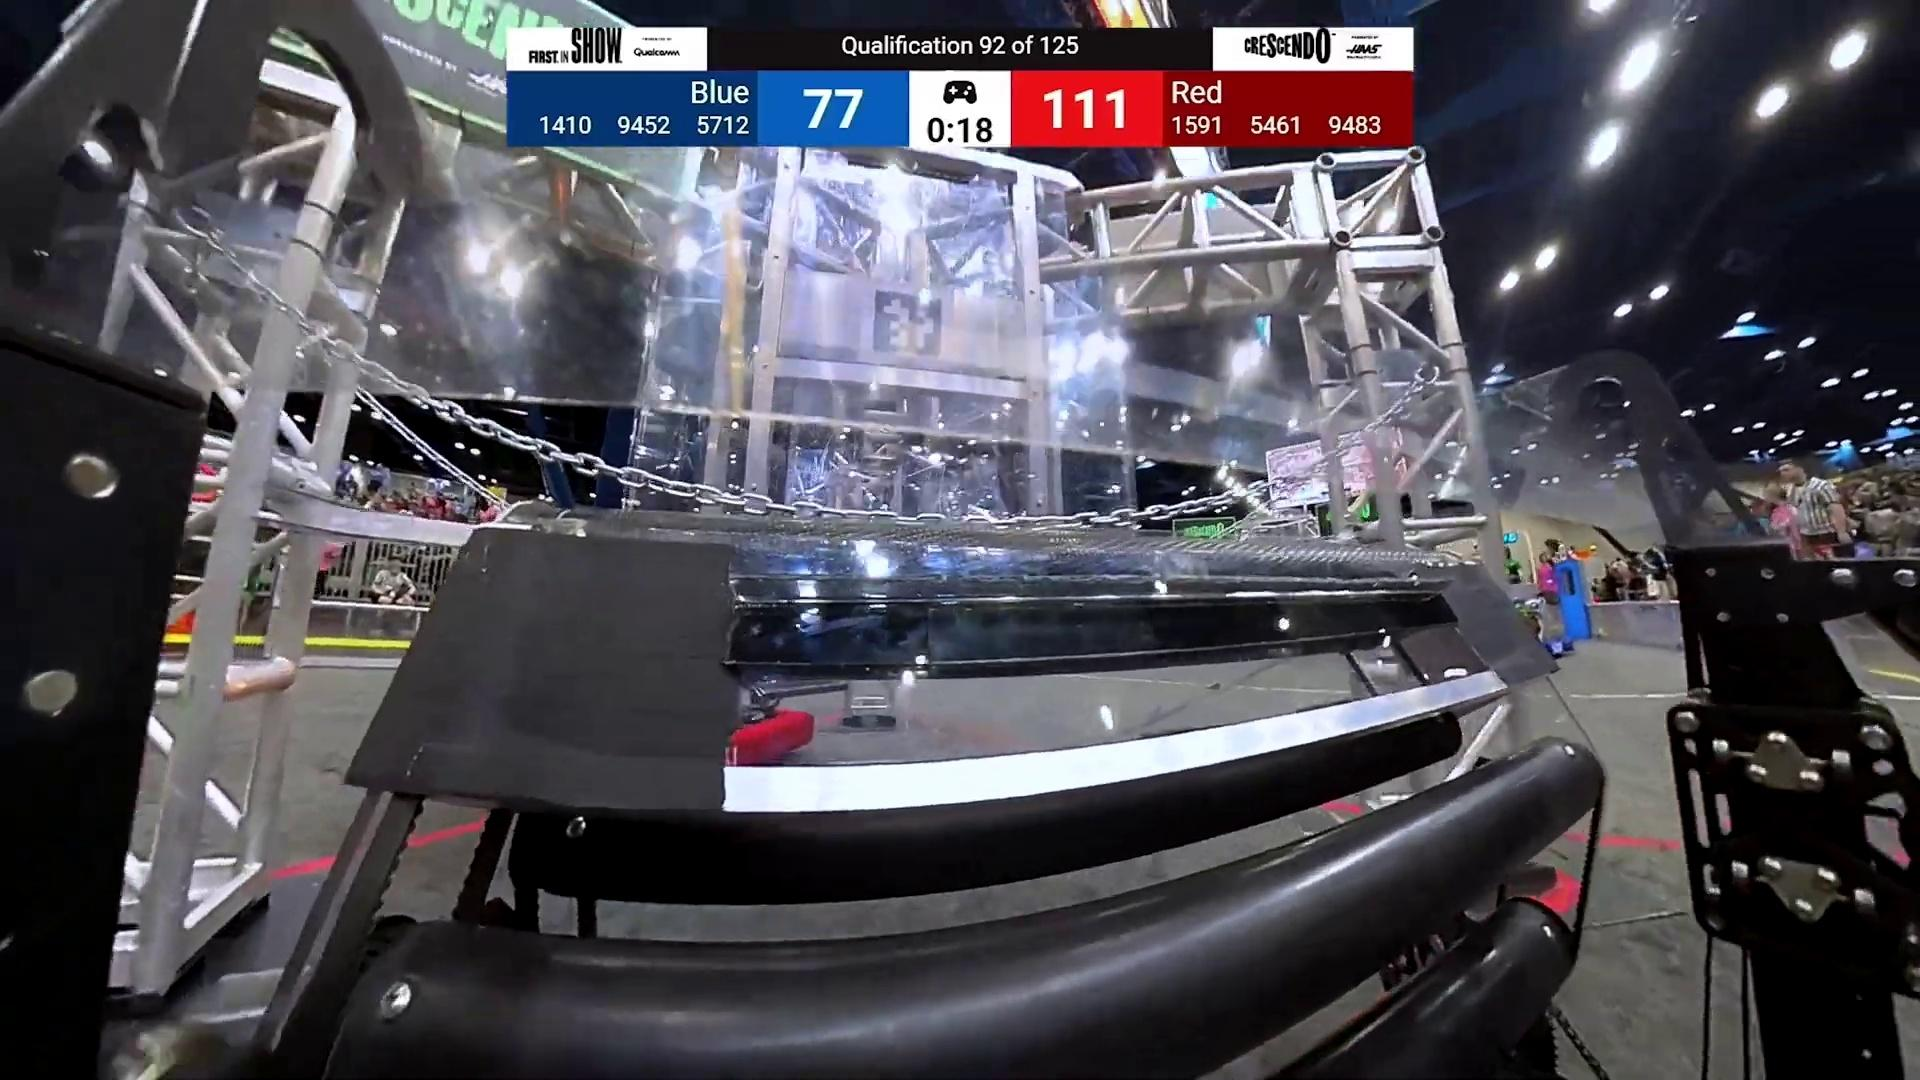robot: (728, 682, 816, 766), (1515, 597, 1575, 658)
